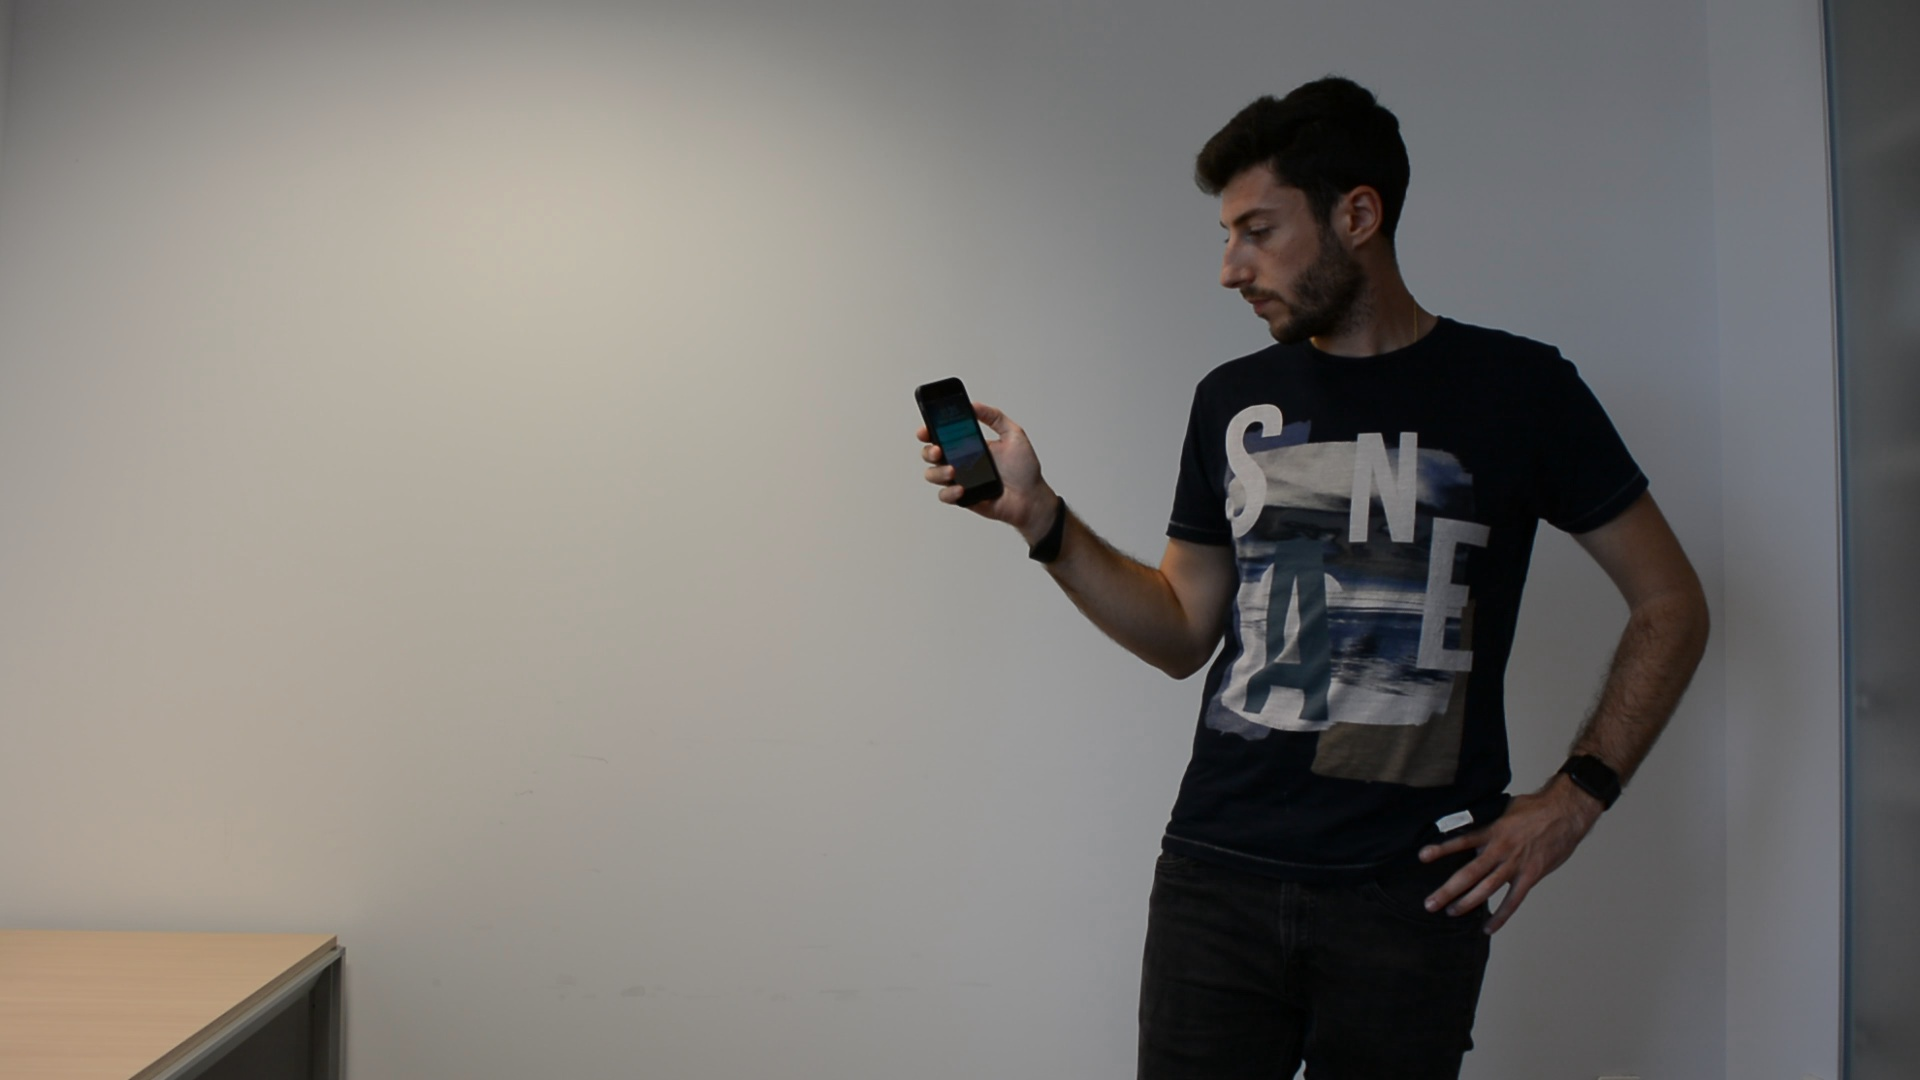smartphone: (913, 376, 1006, 508)
